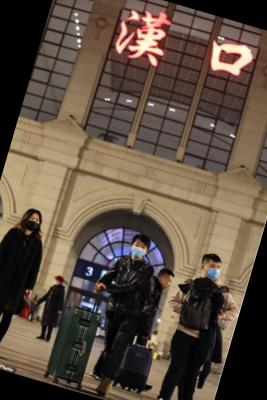with_mask: (202, 260, 223, 281), (130, 240, 149, 260), (25, 215, 41, 232)
without_mask: (162, 277, 173, 291)
